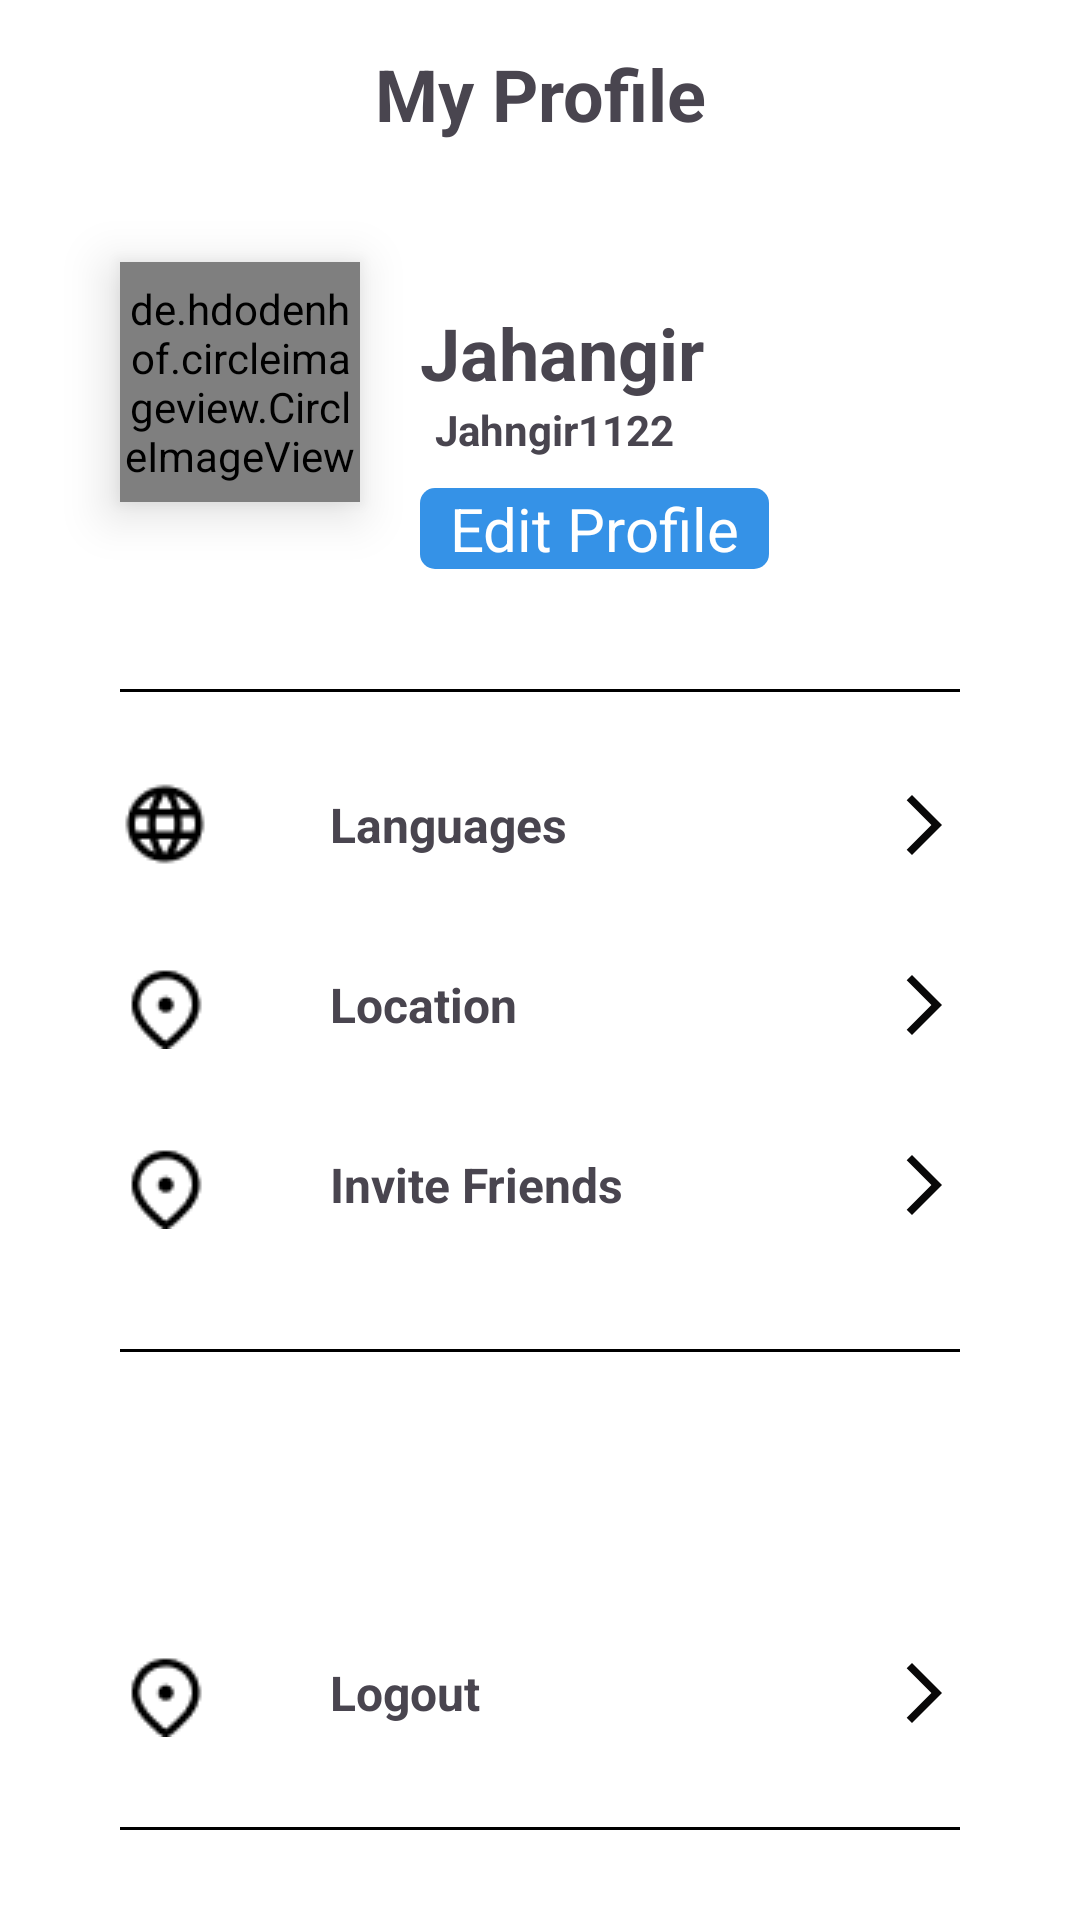

Icons on this 1080 × 1920 Android screen, each with its box as (x1, y1, x2, y2):
arrow forward: (907, 795, 942, 855), (907, 975, 942, 1035), (907, 1155, 942, 1215), (907, 1663, 942, 1723)
